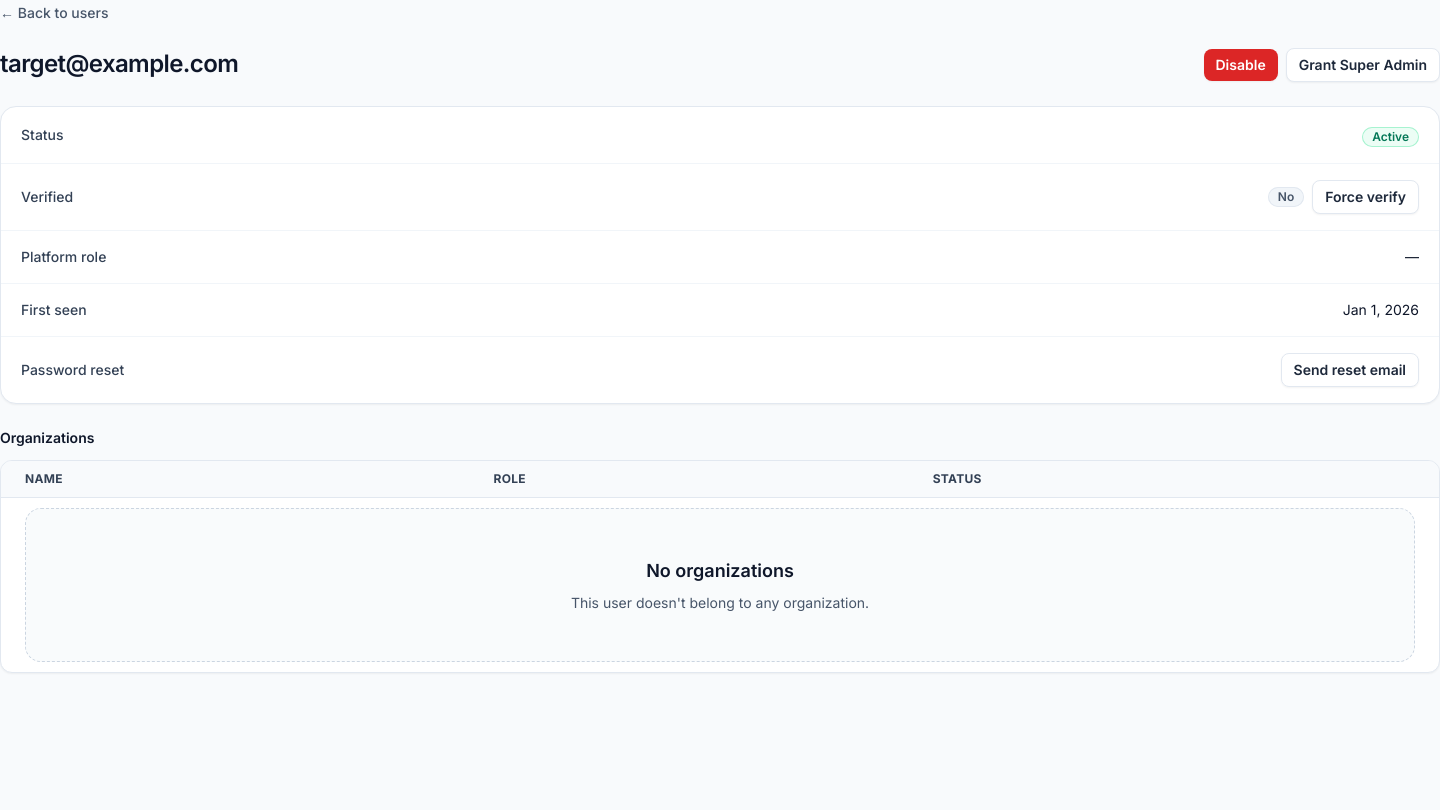
Test: PlatformUserDetailPage actions › disable requires typing the exact email and a reason, then updates from the mutation response only
Click the button "Disable": coordinates (1241, 65) [1204,49,1278,81]
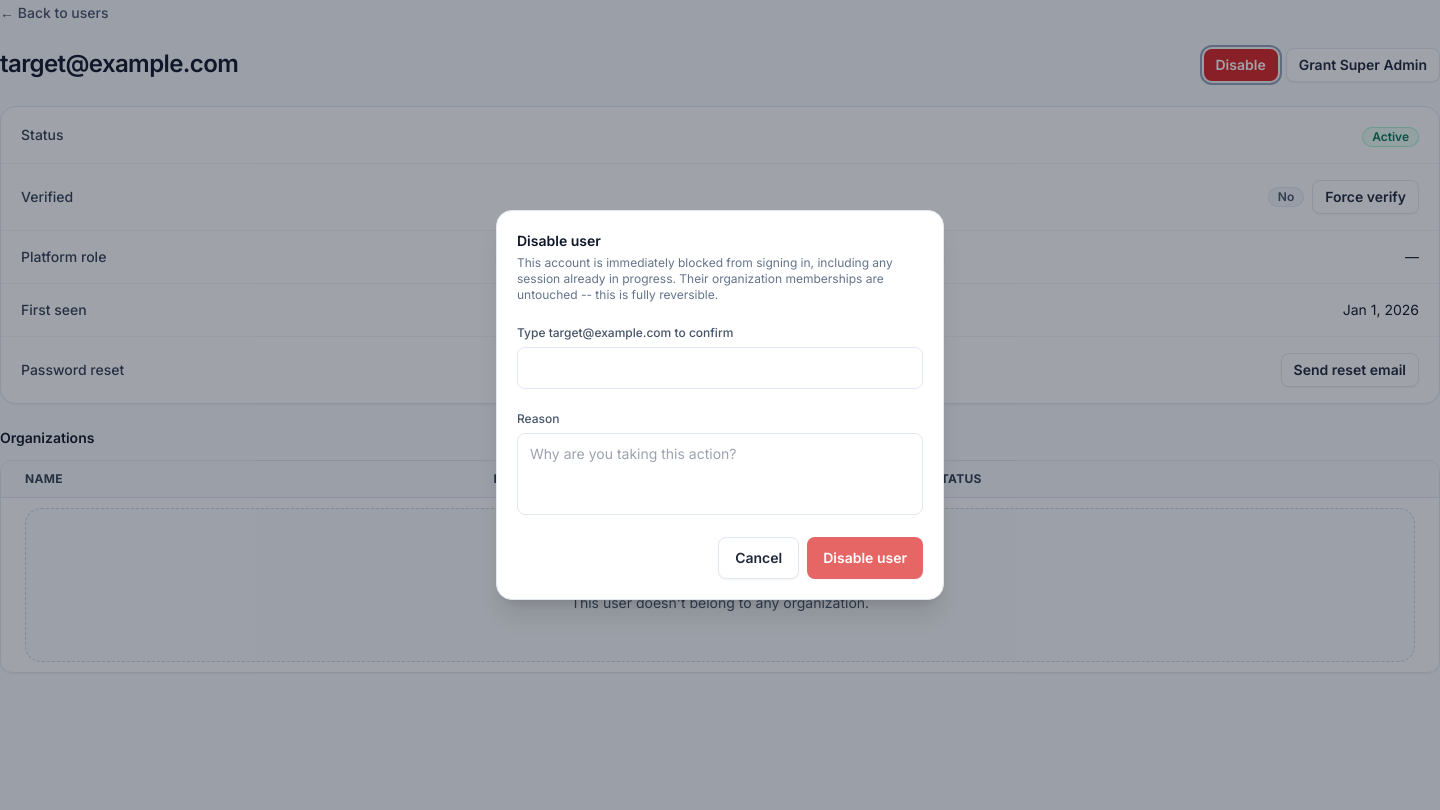
Result: the button "Disable user" is disabled at [807,537,923,579]
In the field labelled "Type target@example.com to confirm": coordinates (720, 368) [517,347,923,389], type "wrong"
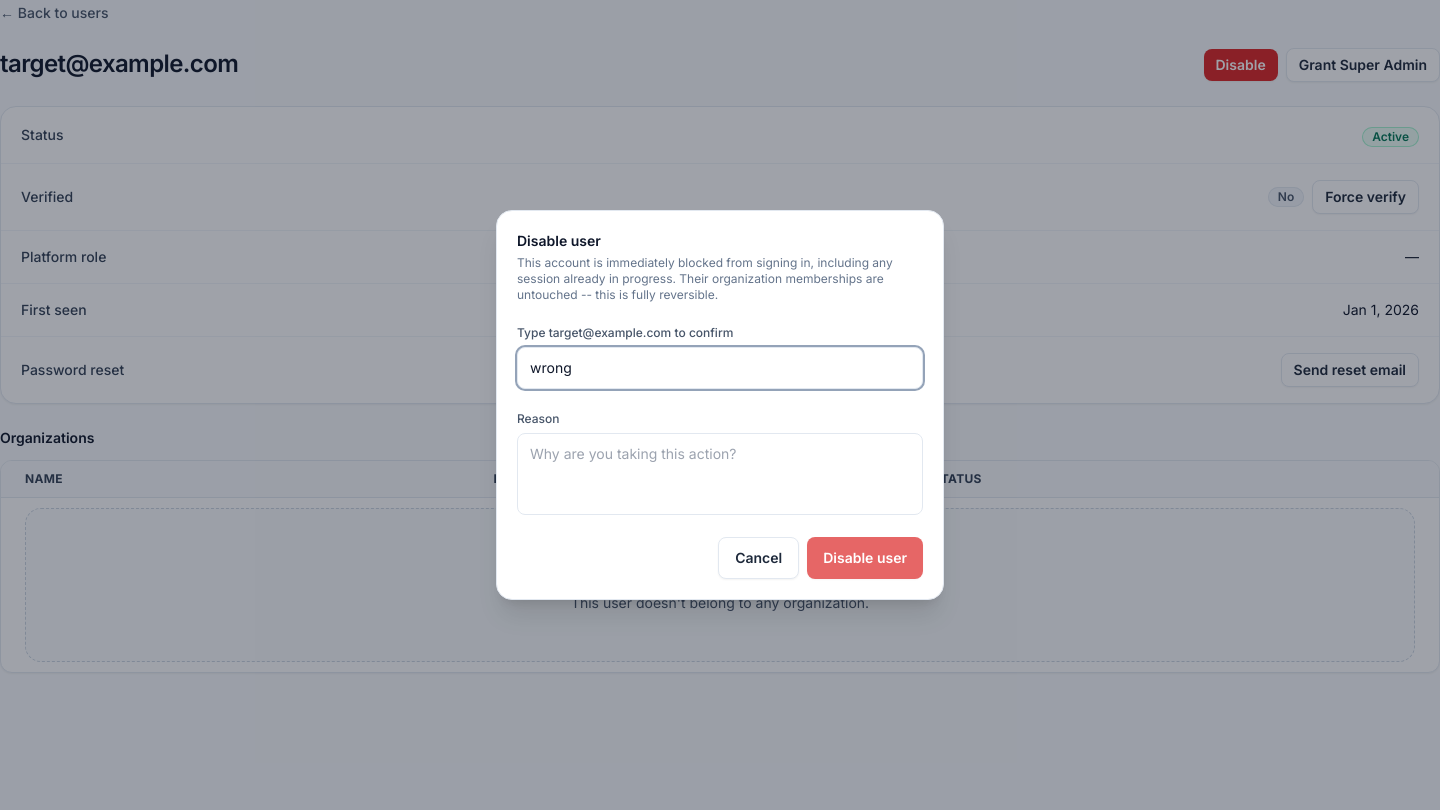
In the text box labelled "Reason": coordinates (720, 474) [517,433,923,515], type "policy violation"
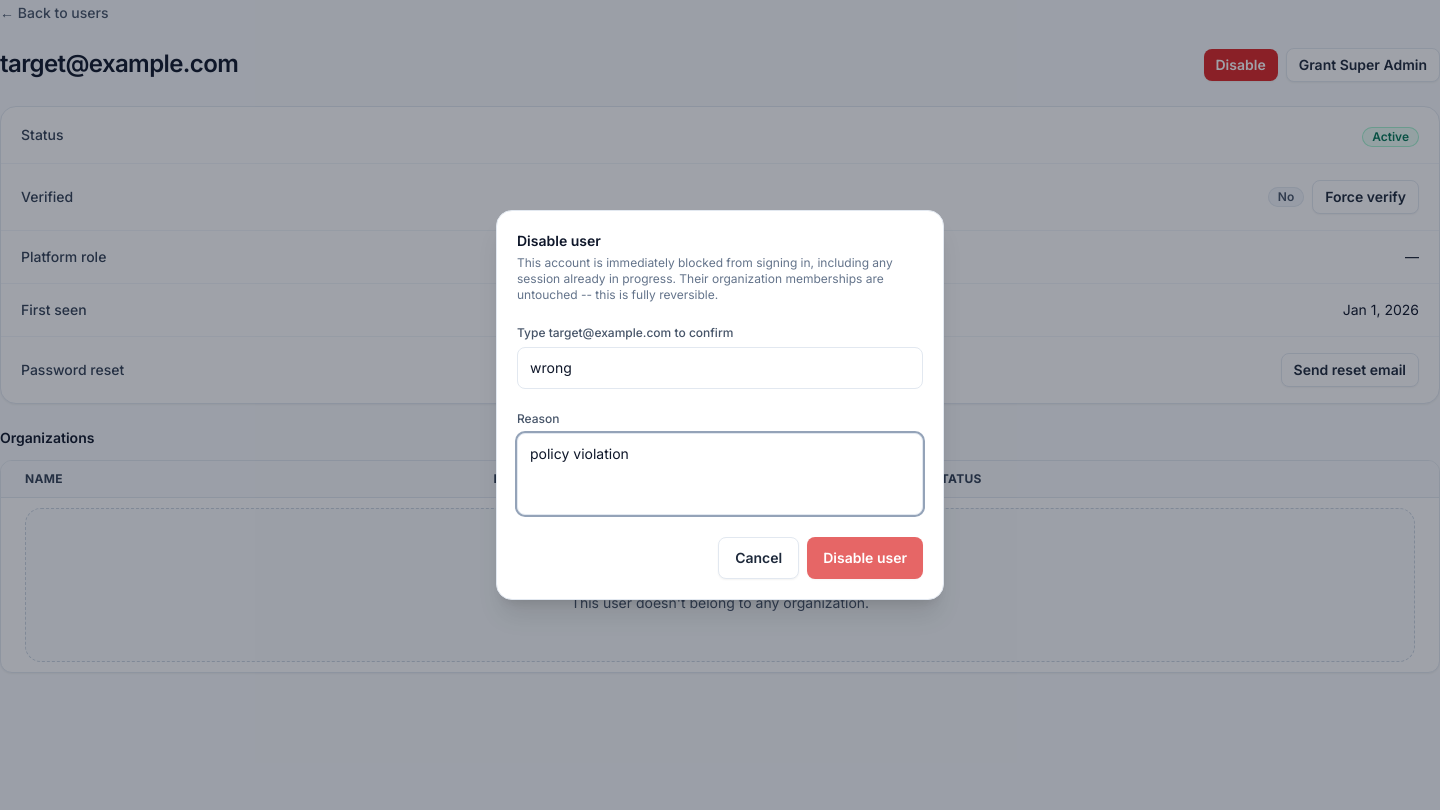
Result: the button "Disable user" is disabled at [807,537,923,579]
Replace the text in the field labelled "Type target@example.com to confirm" with "target@example.com": coordinates (720, 368) [517,347,923,389]
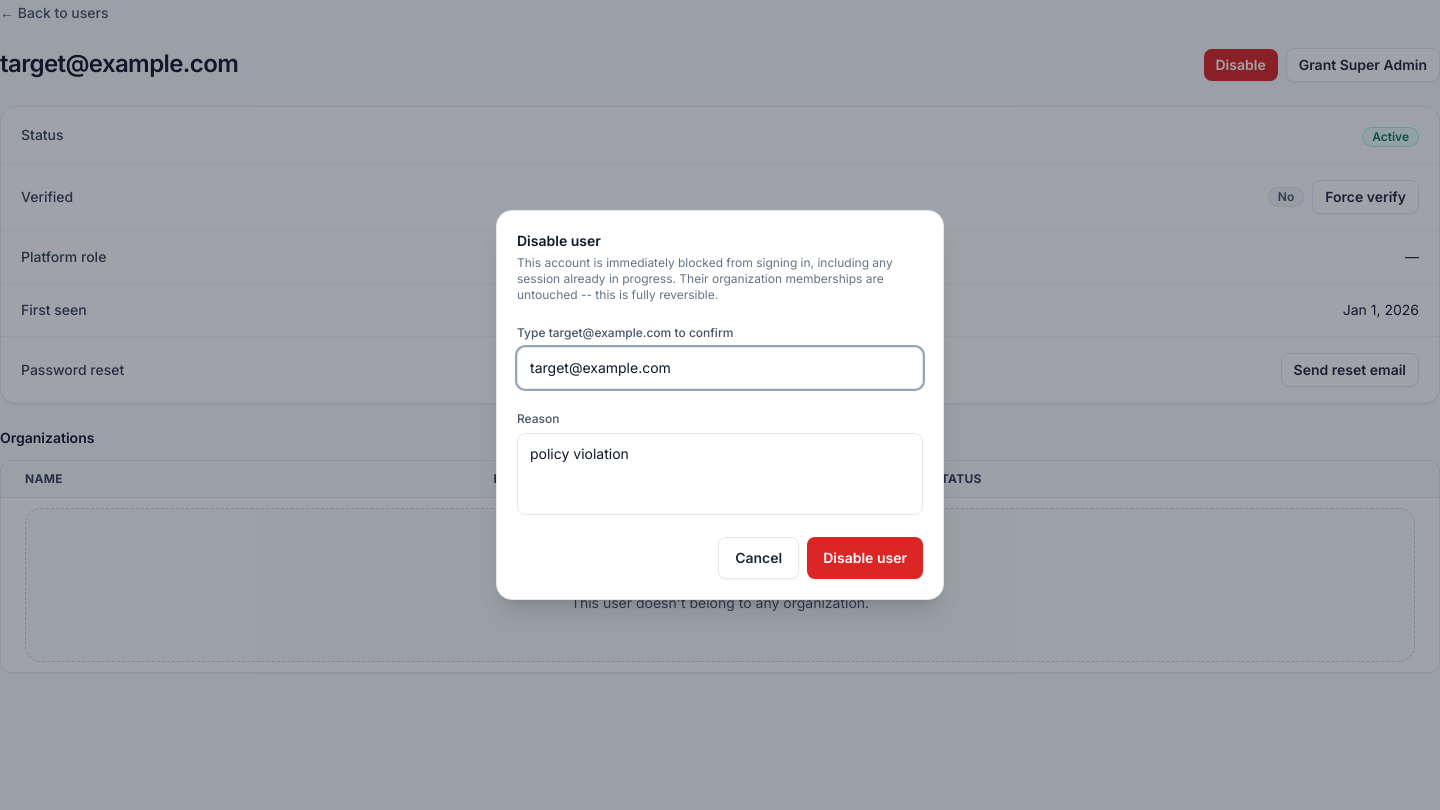
Result: the button "Disable user" is enabled
Click the button "Disable user": coordinates (865, 558) [807,537,923,579]
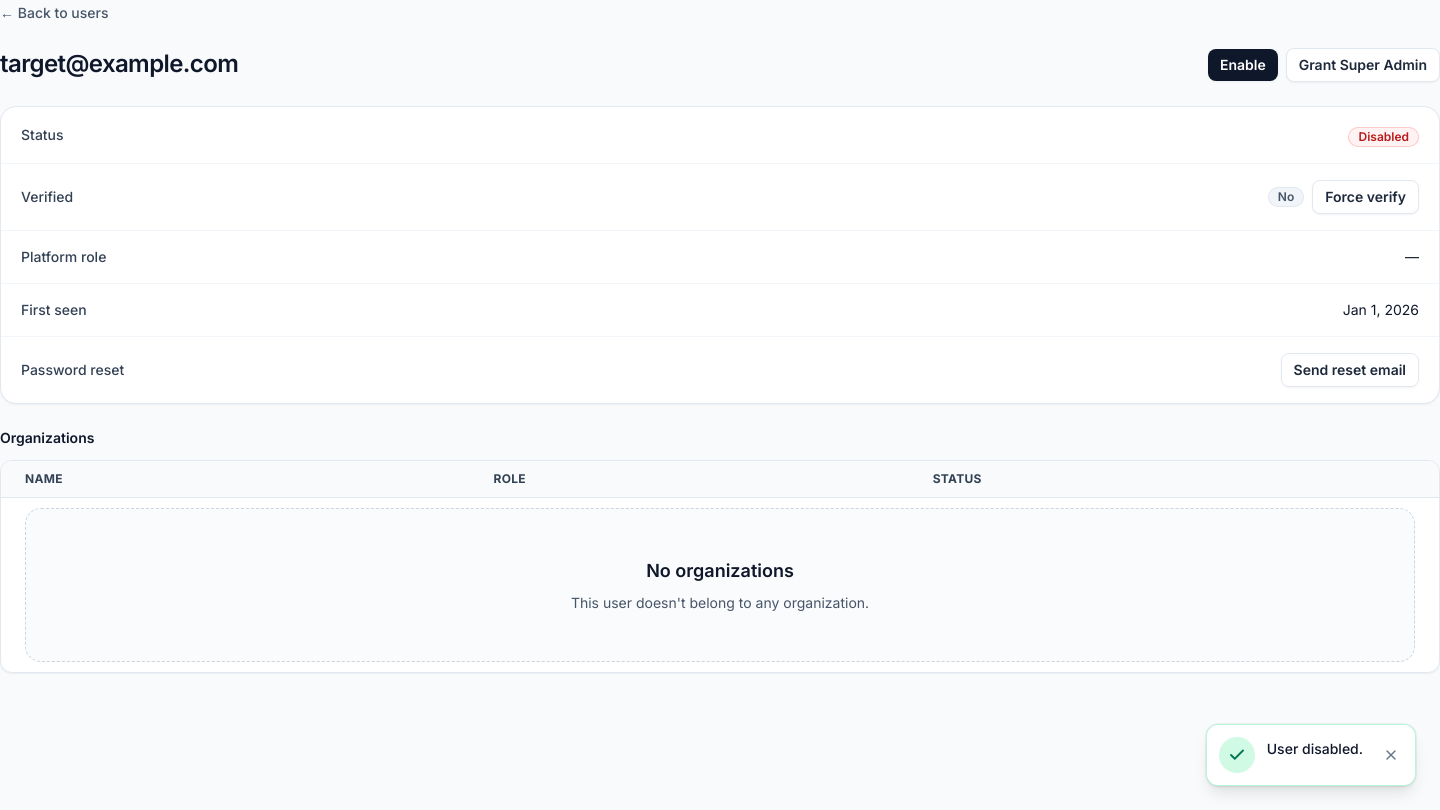
Result: the dialog is gone
Result: the text "Disabled" is shown at [1348,127,1419,147]
Result: the button "Enable" is shown at [1208,49,1278,81]
